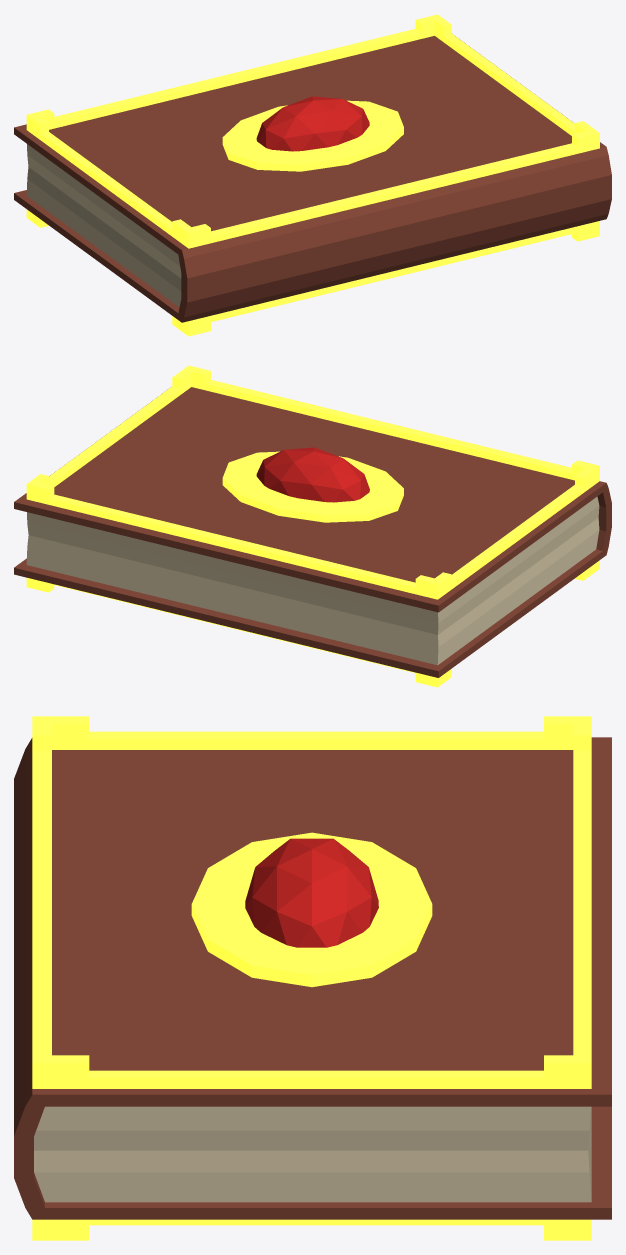
The model's file is book2.fbx.
3 renders of one model, top to bottom at view 1: azimuth 30°, elevation 25°; view 2: azimuth 150°, elevation 25°; view 3: azimuth 270°, elevation 25°, orthographic. The views are drawn at different scales.
Parts seen in each view (by area): view 1: Cube; view 2: Cube; view 3: Cube.
Boxes of the visible parts, bbox=[...] form: Cube: bbox=[14, 14, 611, 336]; Cube: bbox=[14, 365, 611, 687]; Cube: bbox=[14, 716, 611, 1240].
Bounding box in the file's own units: 303 × 102 × 214.
